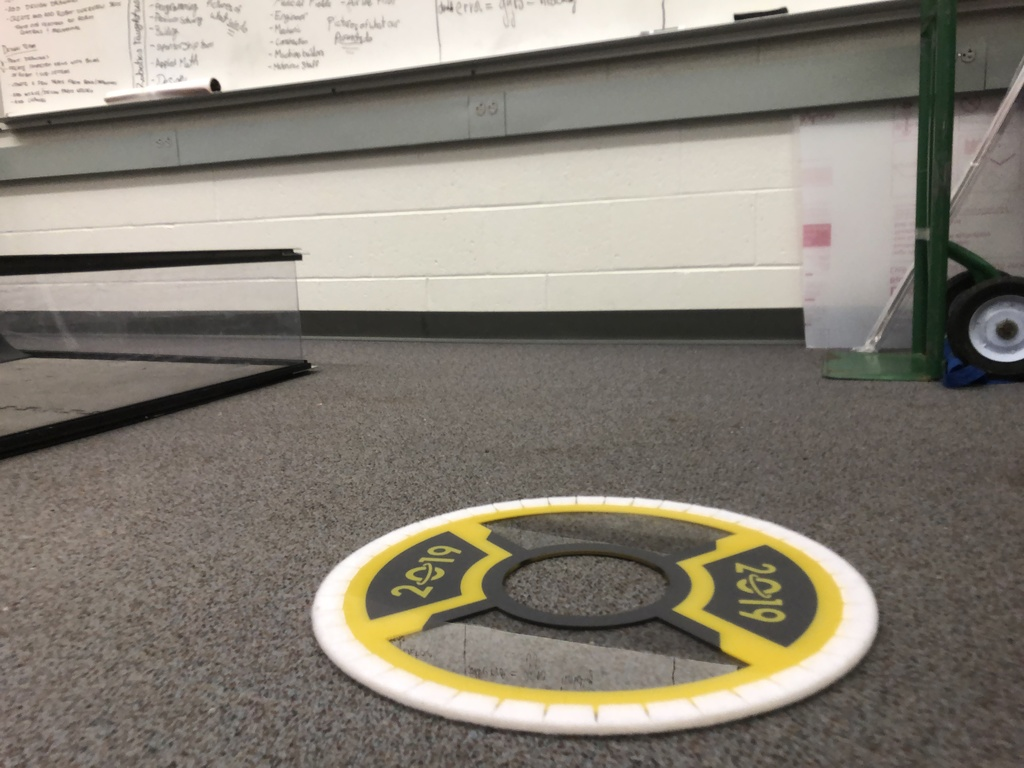hatch_panel: (299, 475, 926, 740)
